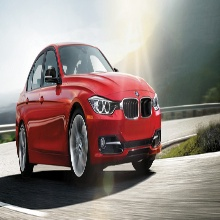no damage: (15, 42, 162, 178)
